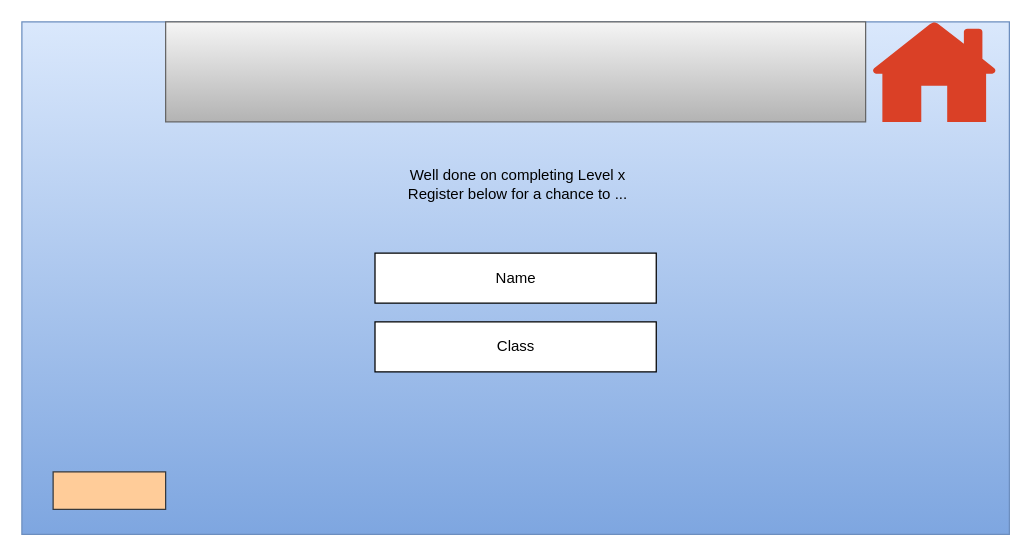
This 1031x556 diagram has some shape labels left out. Here are the shapes that lost their labels. From the top down, the centre of each, then its label:
At pixel 515 71: "4 Better Maths".
At pixel 109 490: "Exit".
